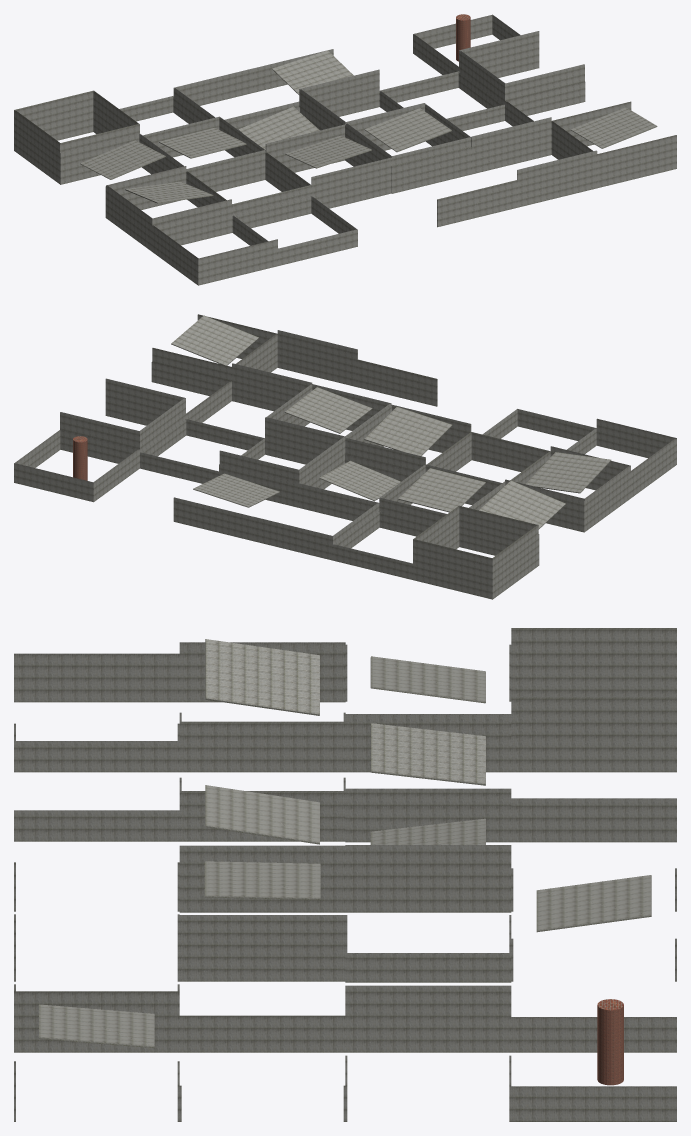
The model's file is ironworks-ruins_lod0.gltf.
The picture shows the model from 3 angles, top to bottom: view 1: azimuth 30°, elevation 25°; view 2: azimuth 150°, elevation 25°; view 3: azimuth 270°, elevation 25°; orthographic projection. The views are drawn at different scales.
Visible parts, largest first — view 1: ironworks-ruins_bays, ironworks-ruins__smokestack; view 2: ironworks-ruins_bays, ironworks-ruins__smokestack; view 3: ironworks-ruins_bays, ironworks-ruins__smokestack.
Boxes of the visible parts, <box> form: ironworks-ruins_bays: <box>14,14,676,285</box>; ironworks-ruins__smokestack: <box>456,14,470,61</box>; ironworks-ruins_bays: <box>14,314,676,599</box>; ironworks-ruins__smokestack: <box>73,436,87,480</box>; ironworks-ruins_bays: <box>14,628,676,1121</box>; ironworks-ruins__smokestack: <box>597,999,623,1085</box>.
Size of the model in its own units: 300 by 25 by 200.
